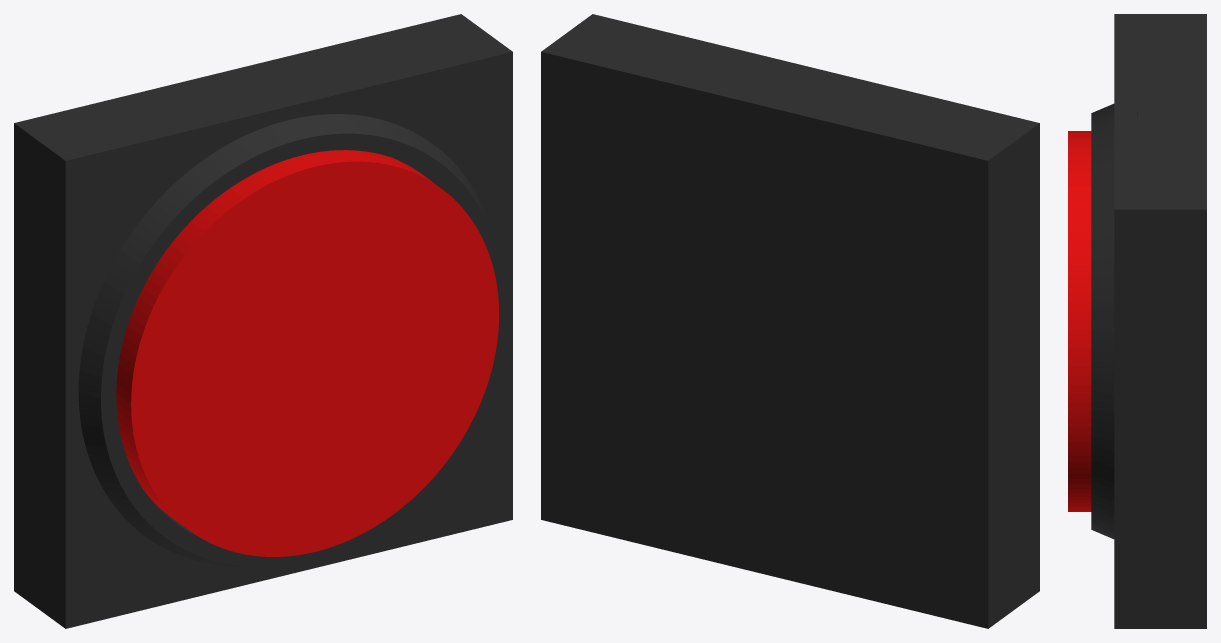
File: button.glb
3 renders of one model, left to right at view 1: azimuth 30°, elevation 25°; view 2: azimuth 150°, elevation 25°; view 3: azimuth 270°, elevation 25°, orthographic. The views are drawn at different scales.
Parts seen in each view (by area): view 1: casing, button; view 2: casing; view 3: casing, button.
Boxes of the visible parts, x1,y1,x2,y2 form: casing: (14, 14, 512, 628); button: (116, 150, 499, 556); casing: (541, 14, 1039, 628); casing: (1091, 14, 1206, 628); button: (1068, 131, 1091, 511).
Size of the model in its own units: 2 by 2 by 0.6.
